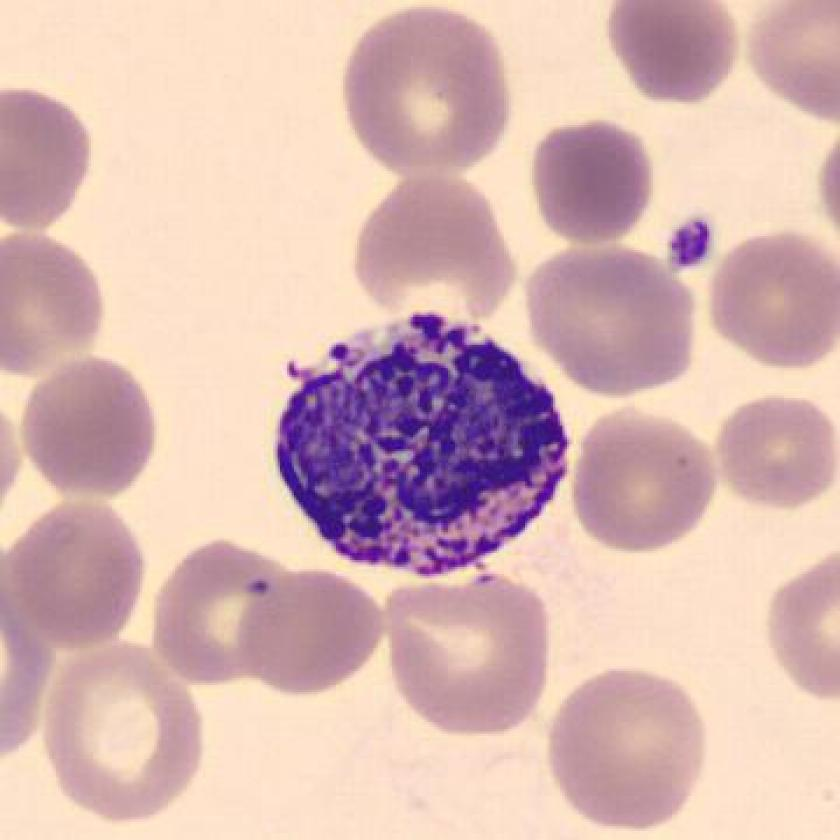basophil: (272, 314, 582, 578)
